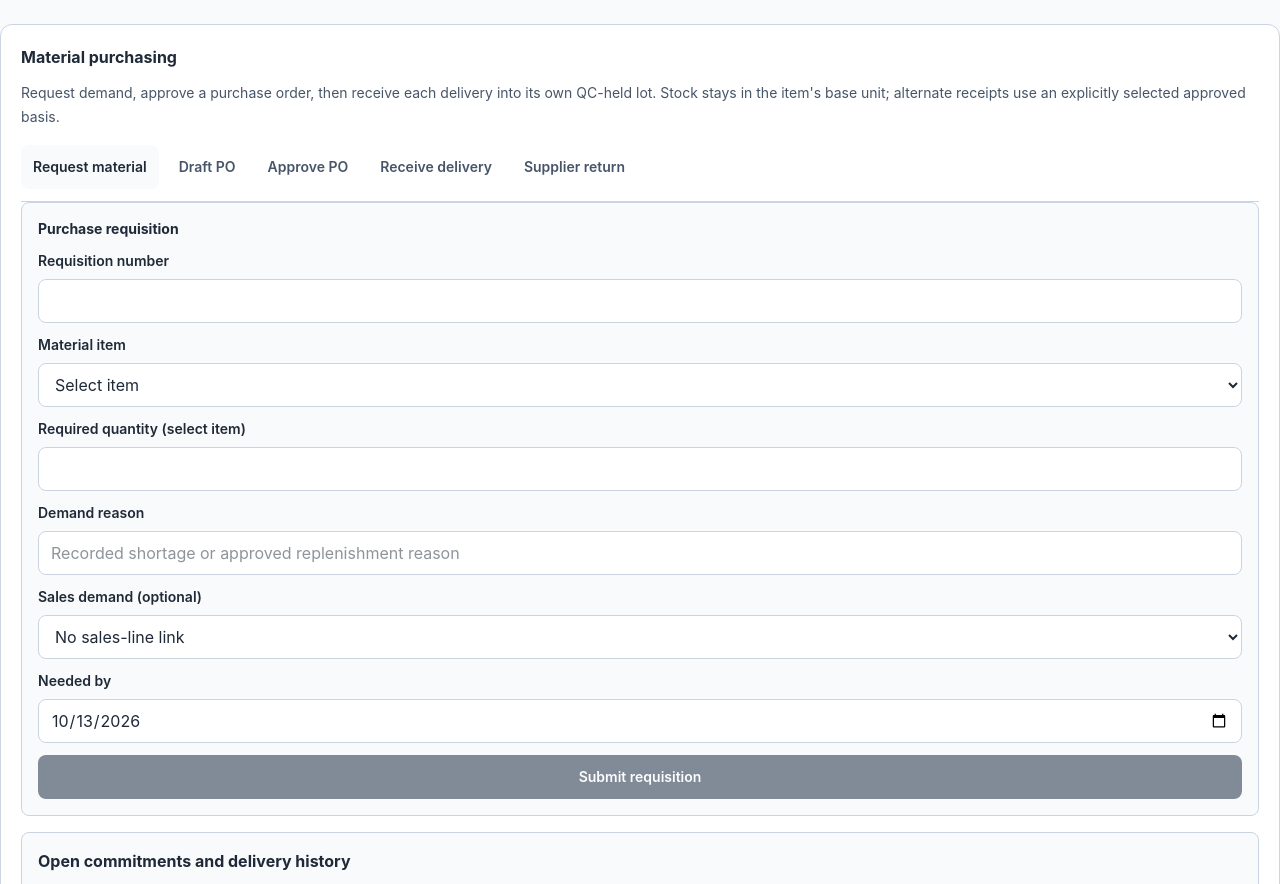
Scenario: material purchasing › submits exact base-unit demand and waits for confirmation before showing success
The image size is (1280, 884).
Step 1. Select "SAMPLE-STEEL — SAMPLE Steel" in the dropdown labelled "Material item" → (640, 385), box [38,363,1242,407]
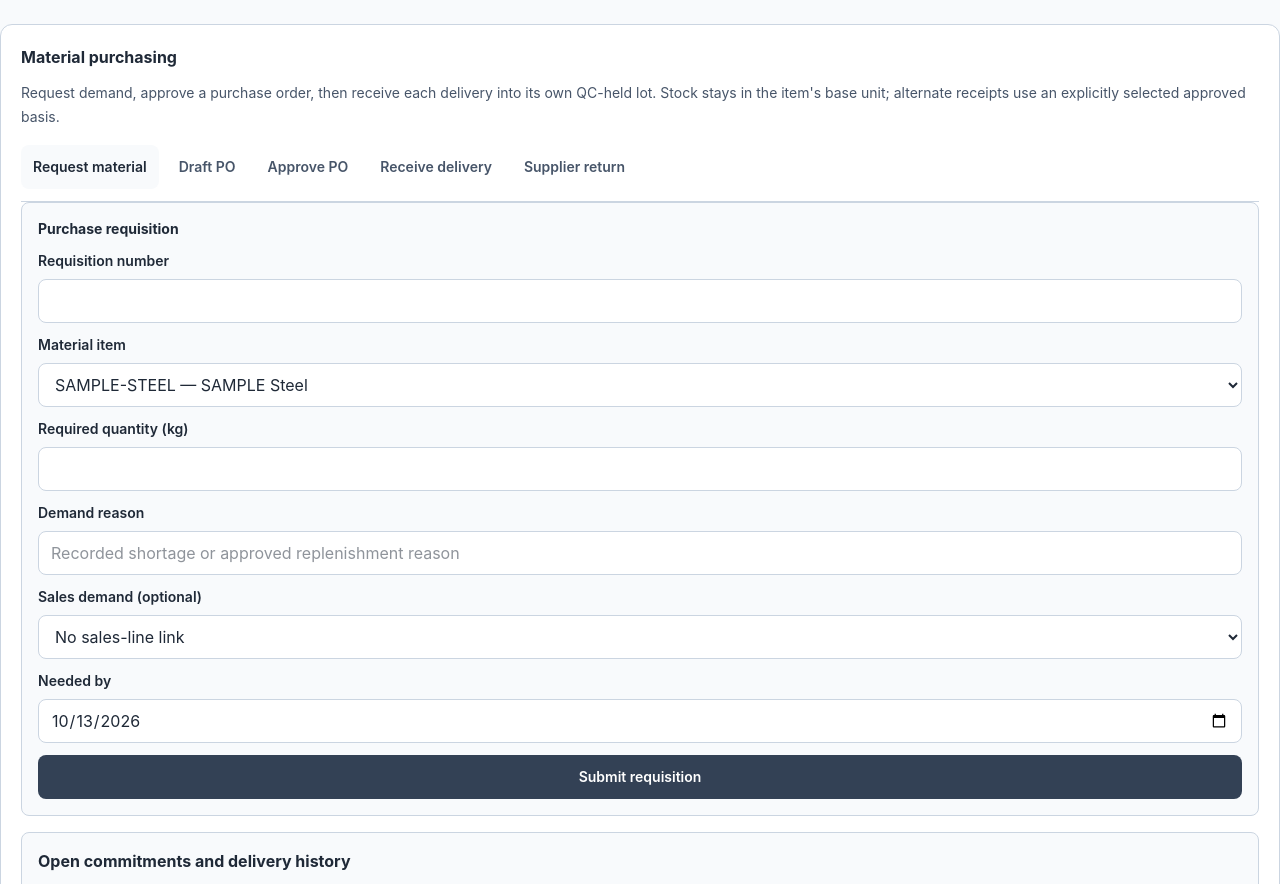
Step 2. Type "SAMPLE-PR" into the field labelled "Requisition number" → (640, 301), box [38,279,1242,323]
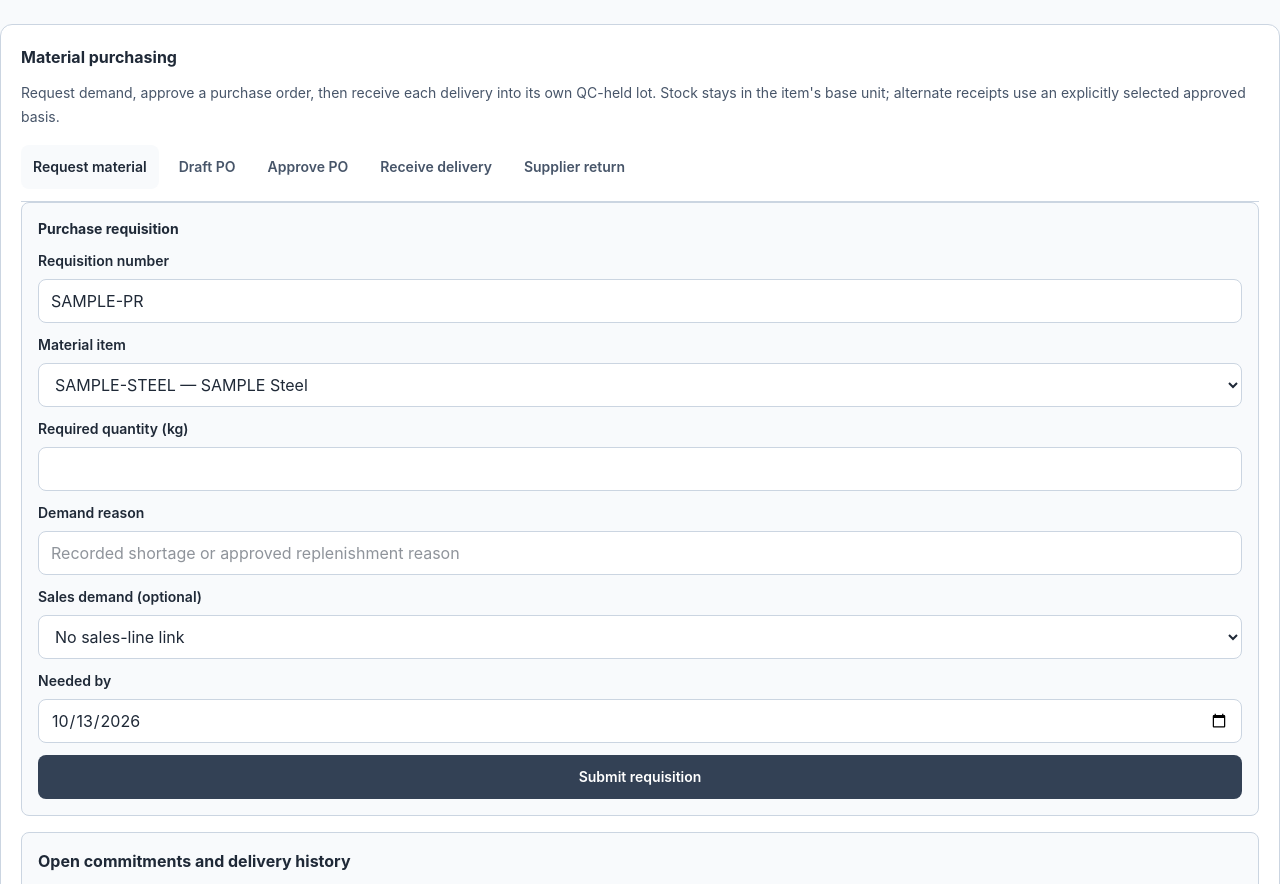
Step 3. Type "999999999999.000001" into the field labelled "Required quantity (kg)" → (640, 469), box [38,447,1242,491]
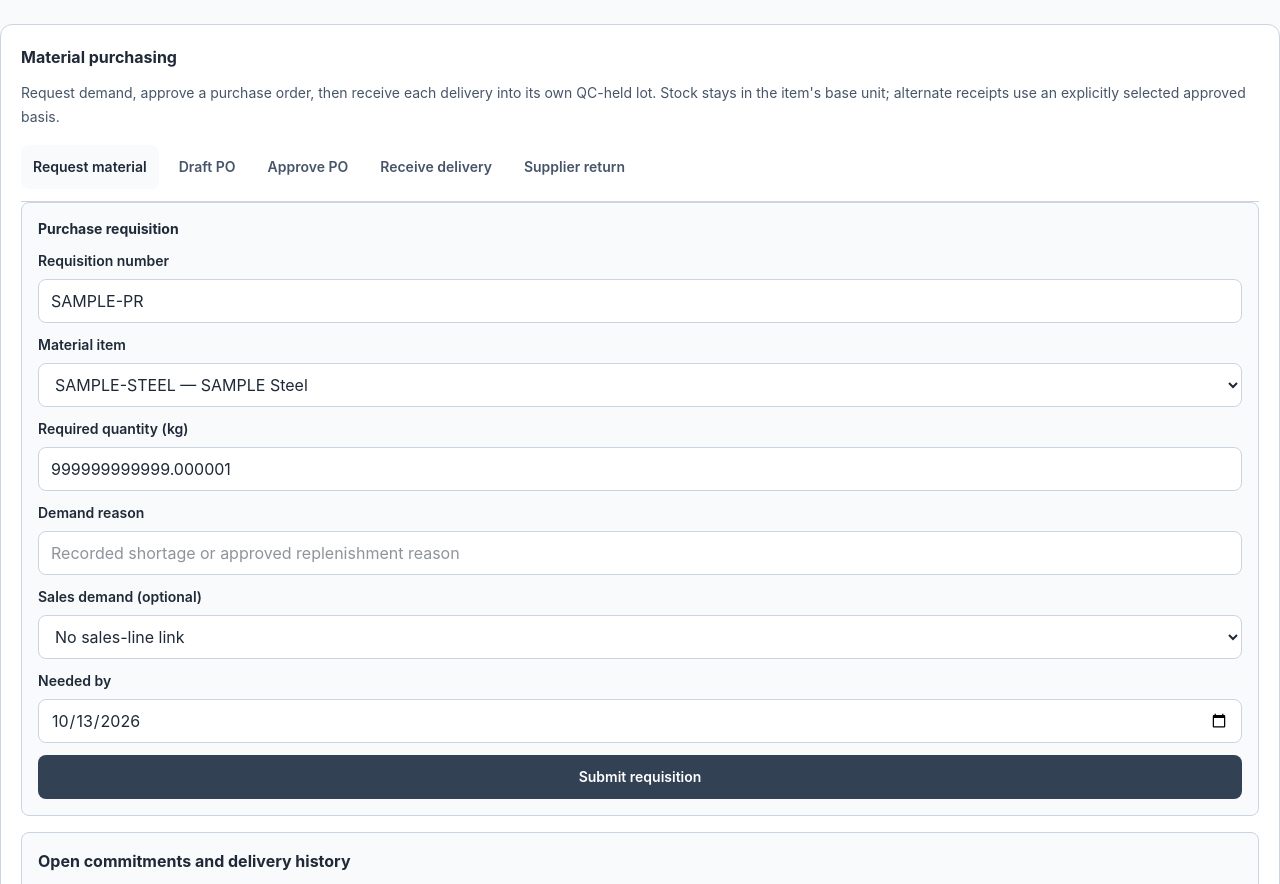
Step 4. Type "SAMPLE demand" into the field labelled "Demand reason" → (640, 553), box [38,531,1242,575]
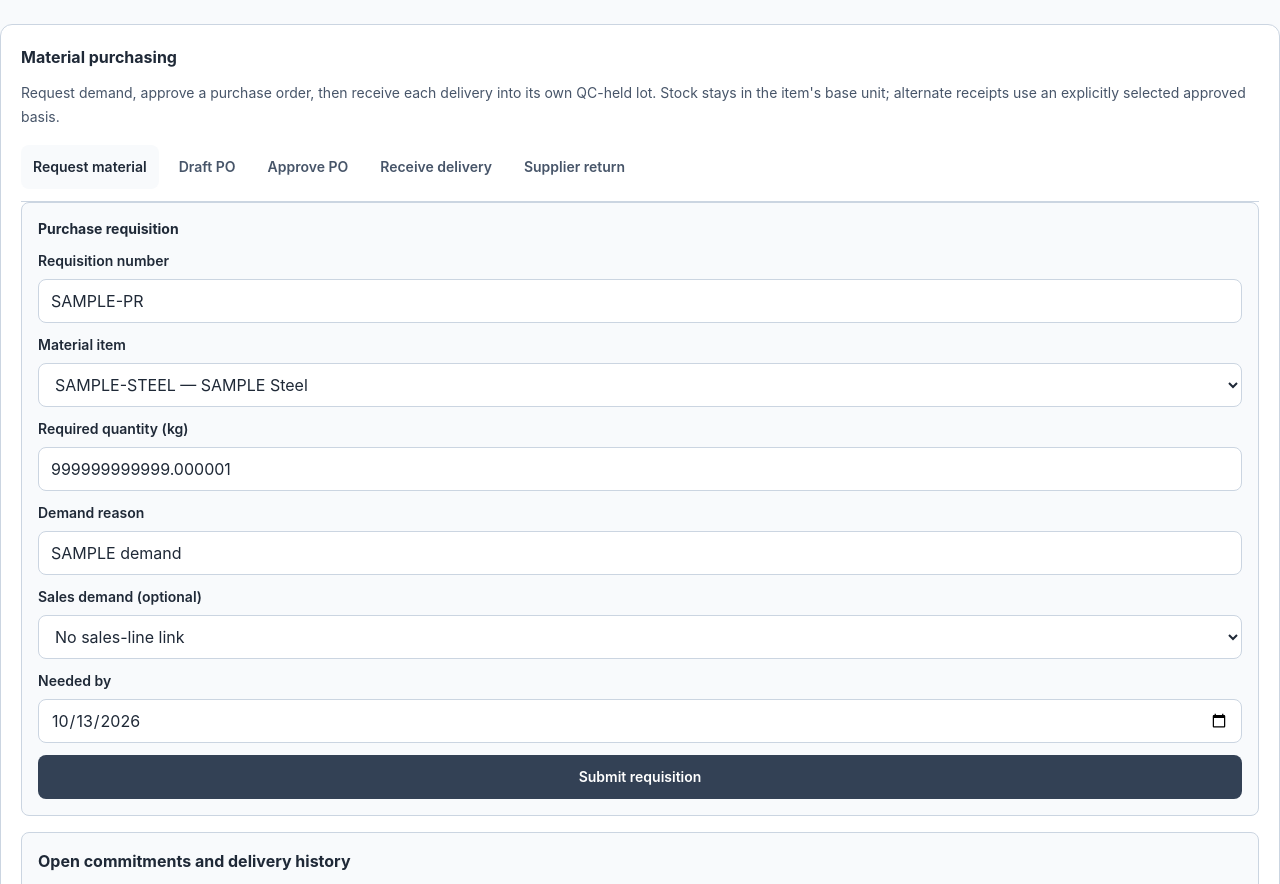
Step 5. Submit the form named "Submit requisition"
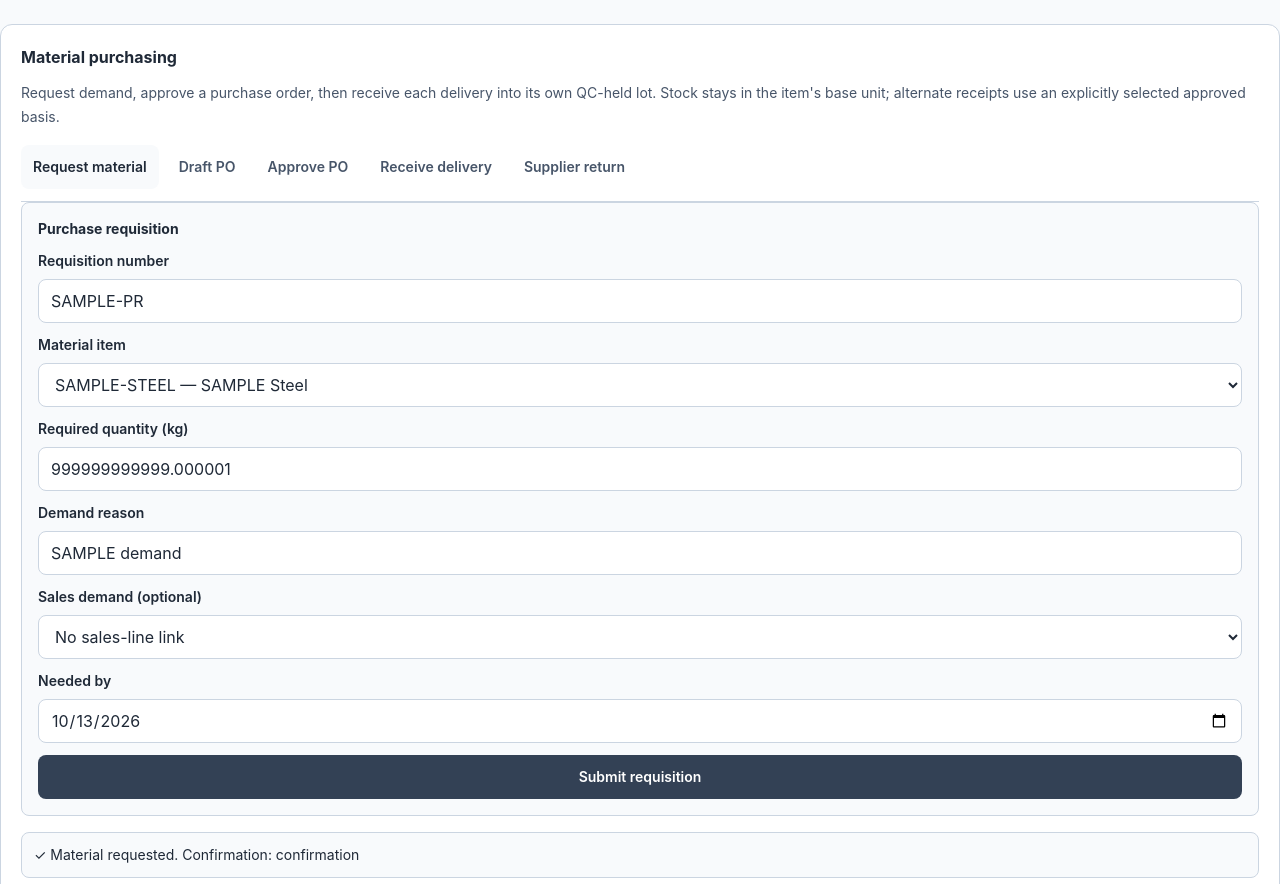
Check: the message shows "Material requested. Confirmation: confirmation", box [50,846,359,863]
